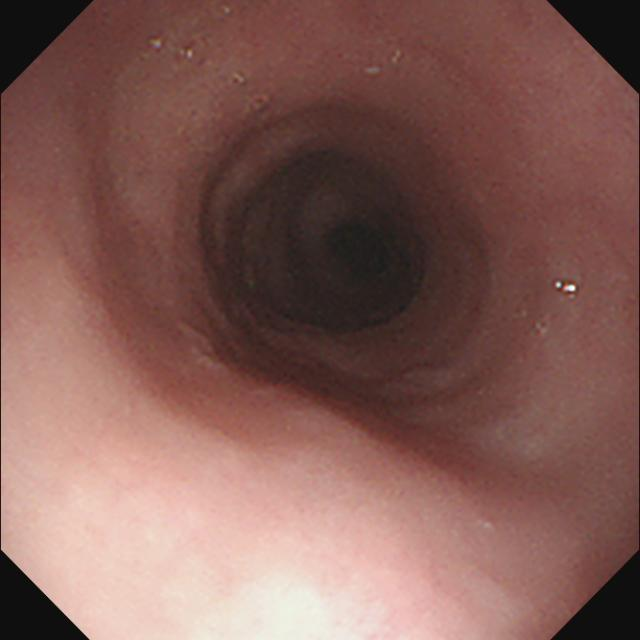E: (243, 157, 429, 332)
